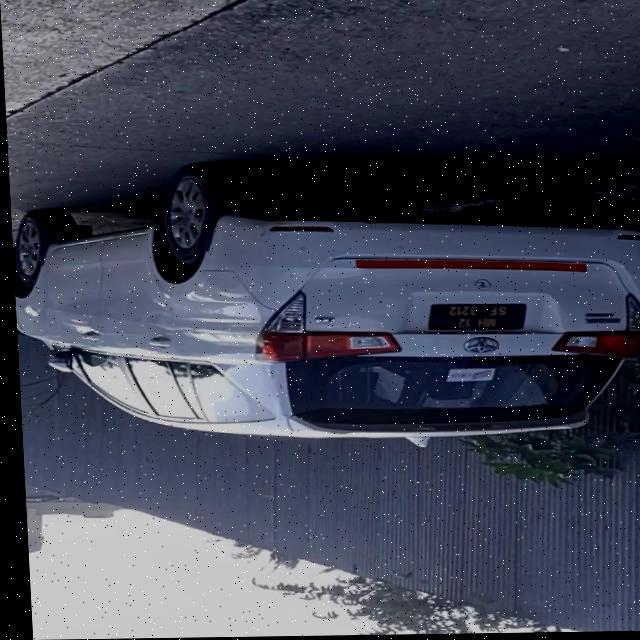plate: (425, 304, 527, 334)
